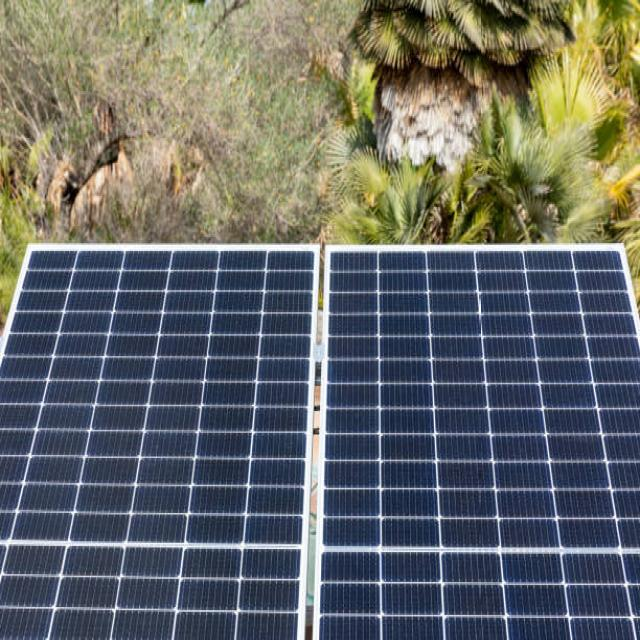no faulty: (0, 235, 319, 640), (318, 247, 640, 640)
